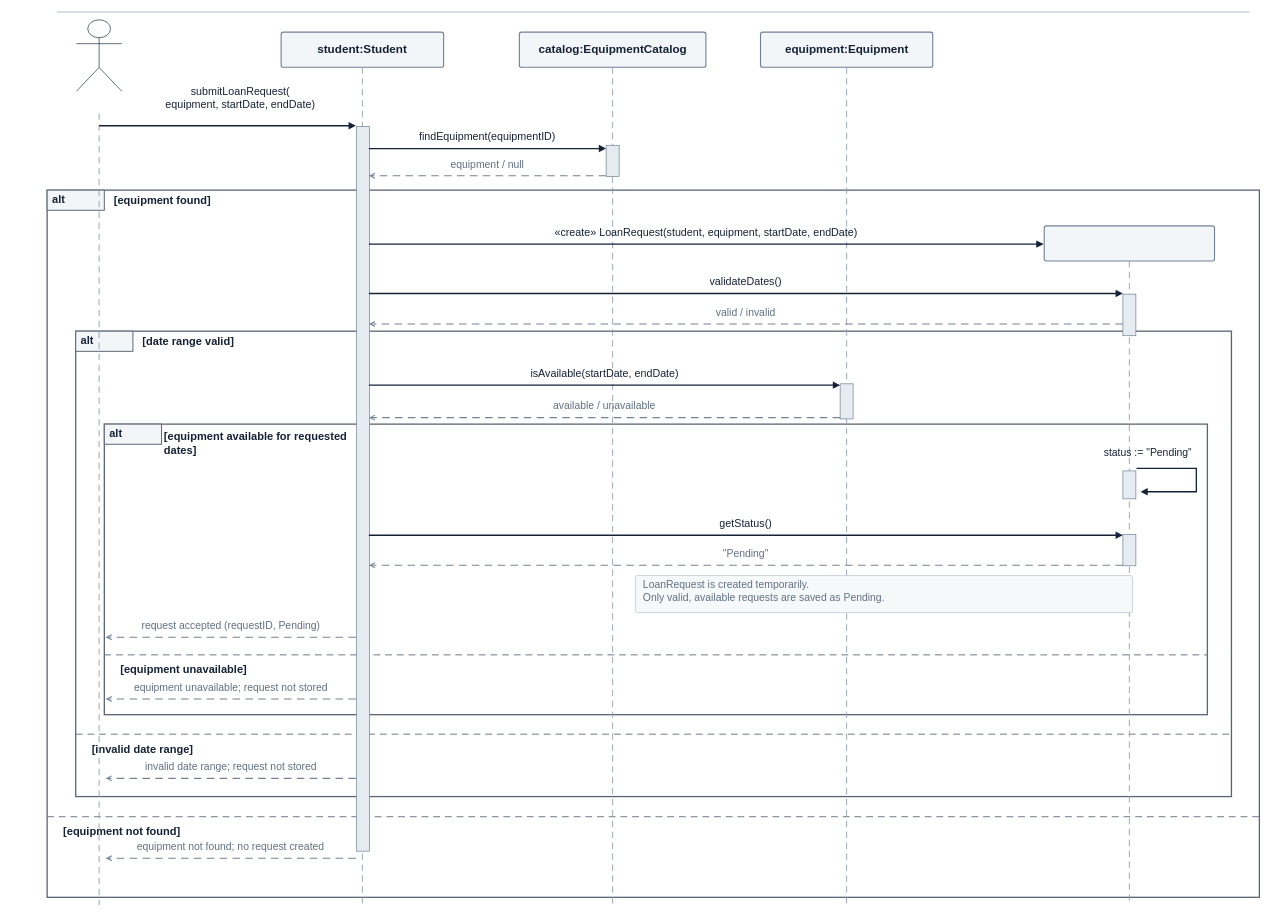
Image size: 1282x917. Some labels were removed from this diagram. Here are the shapes that lost their labels. From the top down, the box of each, then its label:
(76, 19, 122, 91): Student
(1043, 225, 1215, 261): request:LoanRequest
